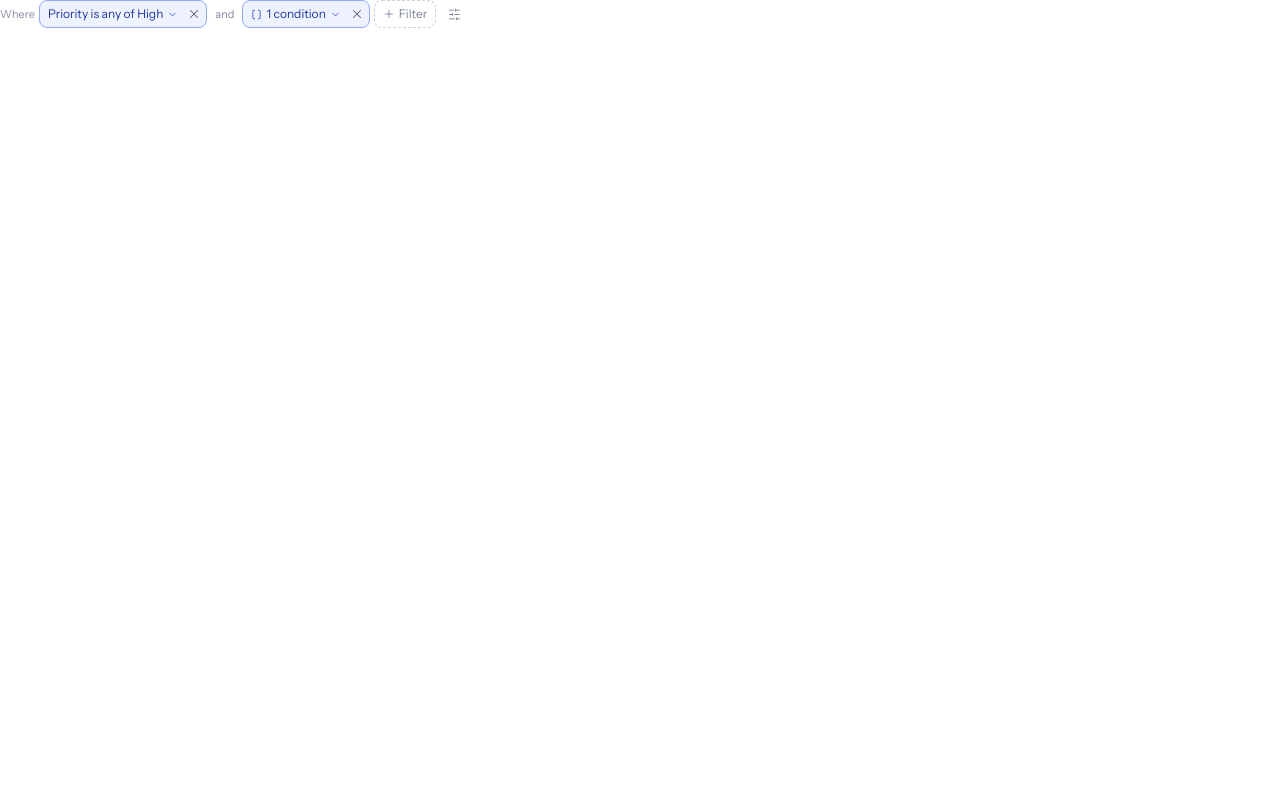
Test case: Escape unwinds one layer at a time › leaves a nested group open when its value picker takes the key
The width and height of the screenshot is (1280, 800).
Step 1. Click the button with test id "filter-chip-1" → (294, 14), box [244,1,345,27]
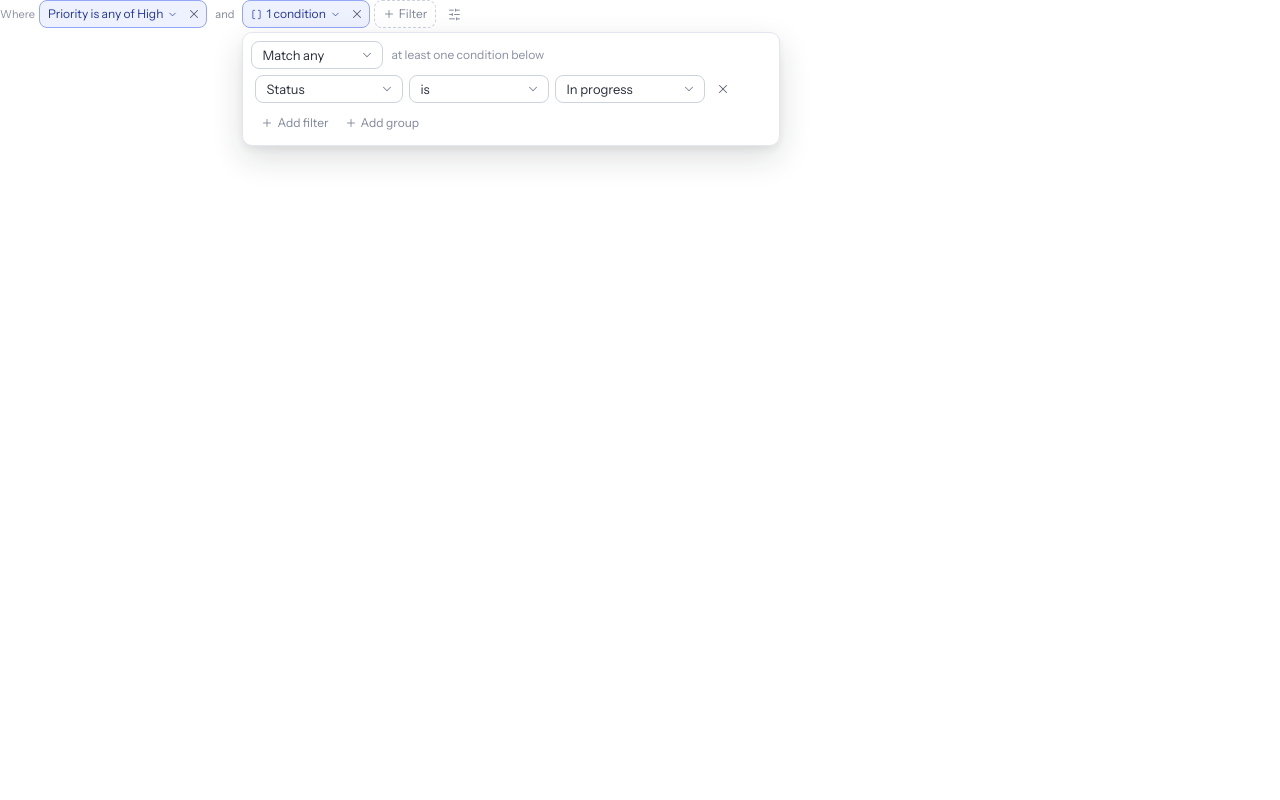
Expected: the dialog named "Edit filter" is shown, [242,32,780,146]
Step 2. Click the button with aria-label "Filter value" → (630, 89), box [556,75,706,103]
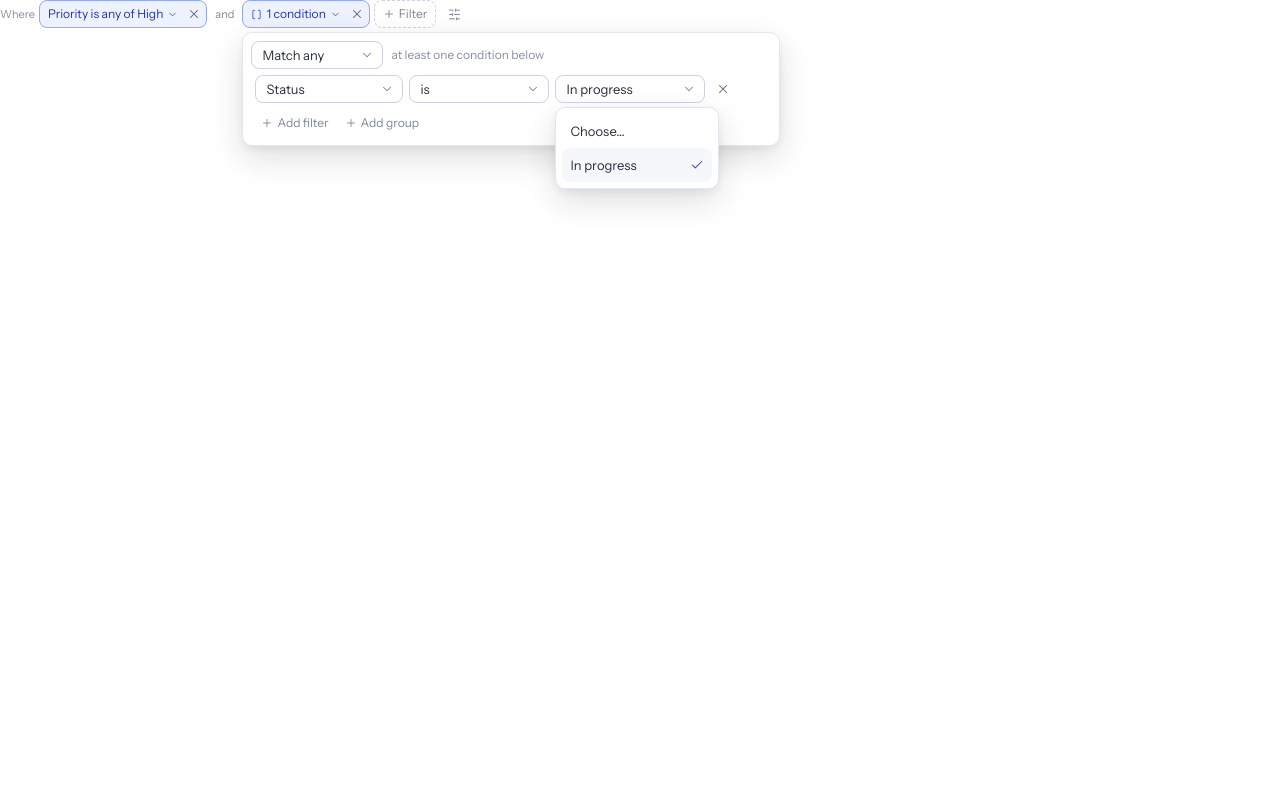
Expected: the list is shown, [556,107,720,189]
Step 3. Press Escape
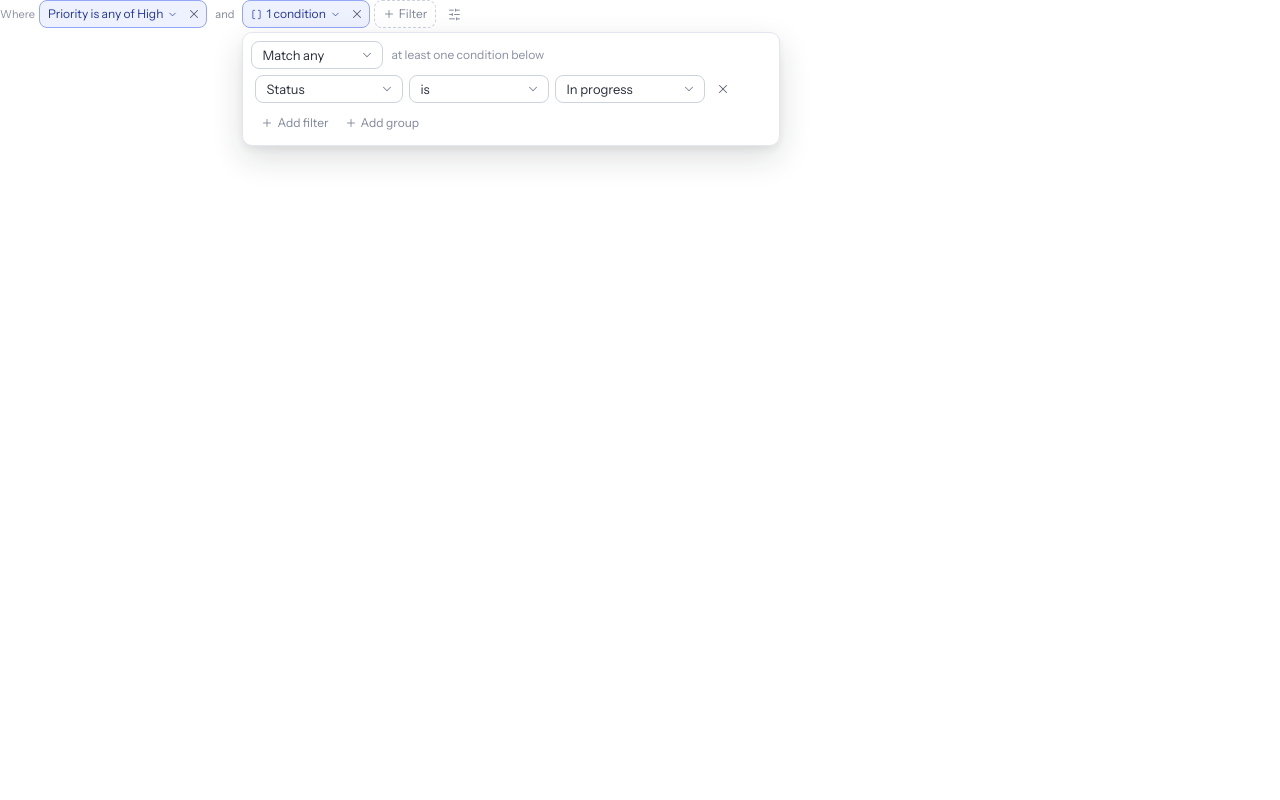
Expected: the dialog named "Edit filter" is shown, [242,32,780,146]
Expected: the list is gone
